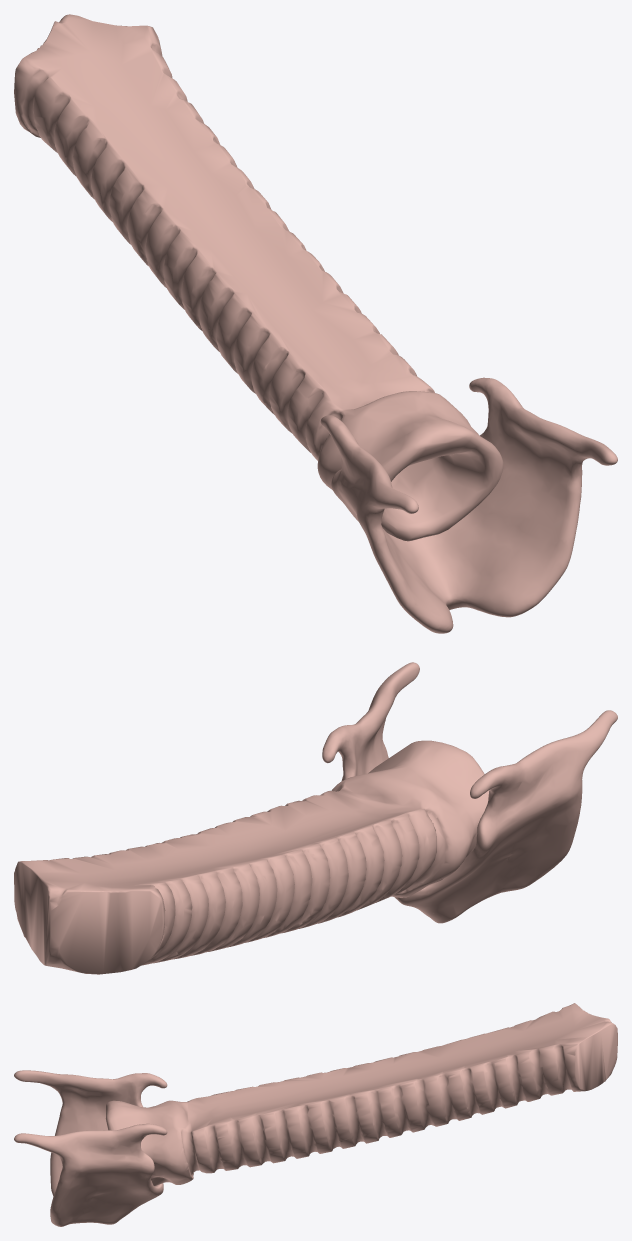
File: neck__organs.883ae68b1d.glb
3 views of the same model, one above another, from view 1: azimuth 30°, elevation 25°; view 2: azimuth 150°, elevation 25°; view 3: azimuth 270°, elevation 25° (orthographic). The views are drawn at different scales.
Visible parts, largest first — view 1: FMA7394, FMA55099; view 2: FMA7394, FMA55099; view 3: FMA7394, FMA55099.
Boxes of the visible parts, x1,y1,x2,y2 form: FMA7394: (14,14,503,541); FMA55099: (320,377,617,633); FMA7394: (14,740,489,974); FMA55099: (322,662,617,923); FMA7394: (105,1003,617,1186); FMA55099: (14,1070,167,1226).
Bounding box in the file's own units: 38.59 × 51.94 × 139.
